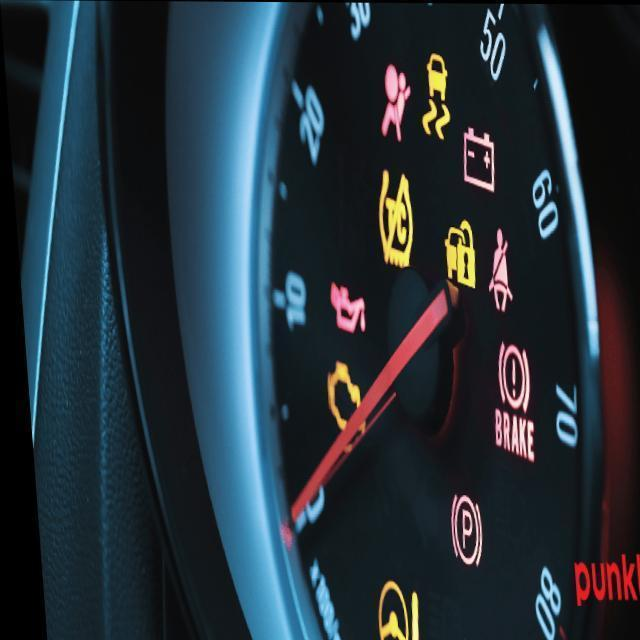Electronic Power Steering: (376, 577, 422, 640)
Seat Belt: (488, 229, 514, 310)
